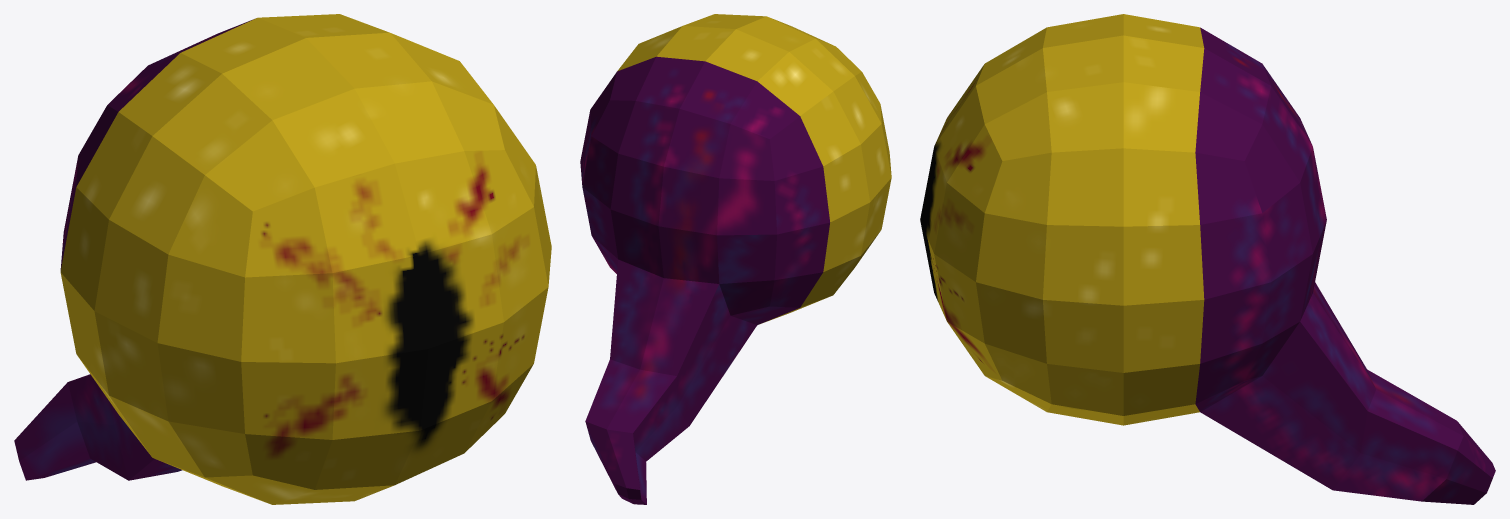
The model's file is eye.glb.
3 views of the same model, side by side, from view 1: azimuth 30°, elevation 25°; view 2: azimuth 150°, elevation 25°; view 3: azimuth 270°, elevation 25° (orthographic). The views are drawn at different scales.
Parts seen in each view (by area): view 1: Cube; view 2: Cube; view 3: Cube.
Boxes of the visible parts, x1=… form: Cube: x1=14, y1=14, x2=551, y2=504; Cube: x1=580, y1=14, x2=891, y2=504; Cube: x1=920, y1=14, x2=1495, y2=504.
Bounding box in the file's own units: 0.15 × 0.1972 × 0.2123.
1 material, 1 textured.
